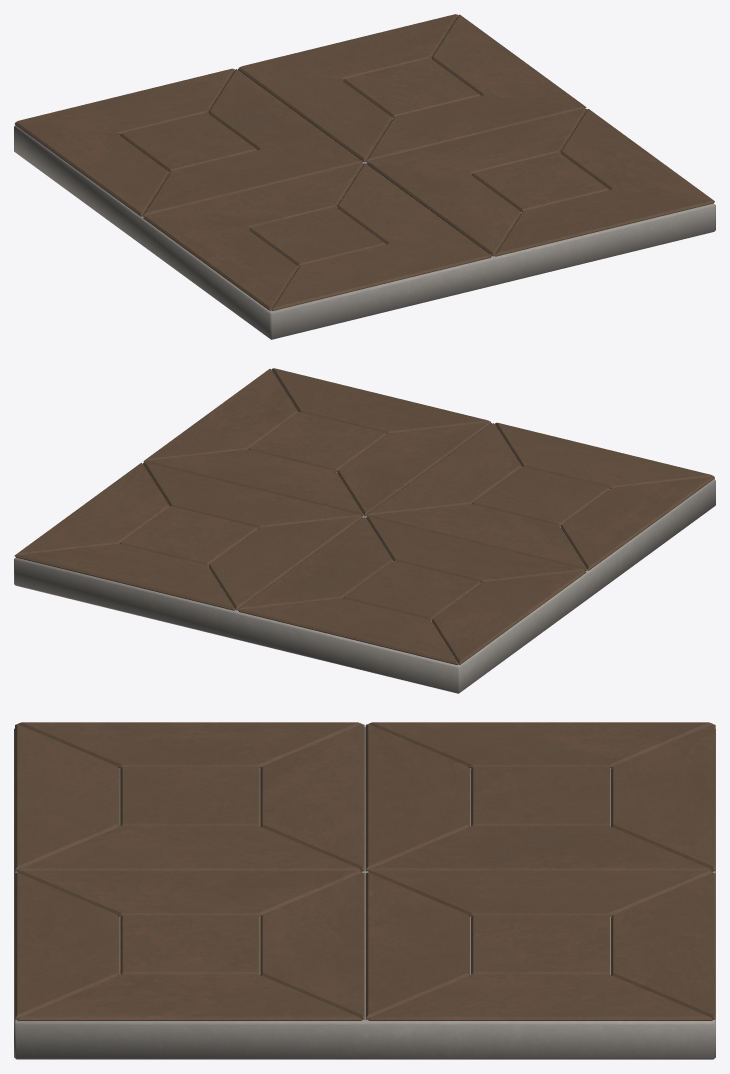
The model's file is SK2 CEILING SMALL.fbx.
The picture shows the model from 3 angles, top to bottom: view 1: azimuth 30°, elevation 25°; view 2: azimuth 150°, elevation 25°; view 3: azimuth 270°, elevation 25°; orthographic projection. The views are drawn at different scales.
Parts seen in each view (by area): view 1: SK2 CEILING SMALL; view 2: SK2 CEILING SMALL; view 3: SK2 CEILING SMALL.
Boxes of the visible parts, left/top/right/bottom form: SK2 CEILING SMALL: left=14, top=14, right=715, bottom=339; SK2 CEILING SMALL: left=14, top=368, right=715, bottom=693; SK2 CEILING SMALL: left=14, top=722, right=715, bottom=1059.
Bounding box in the file's own units: 200 × 13.44 × 200.
